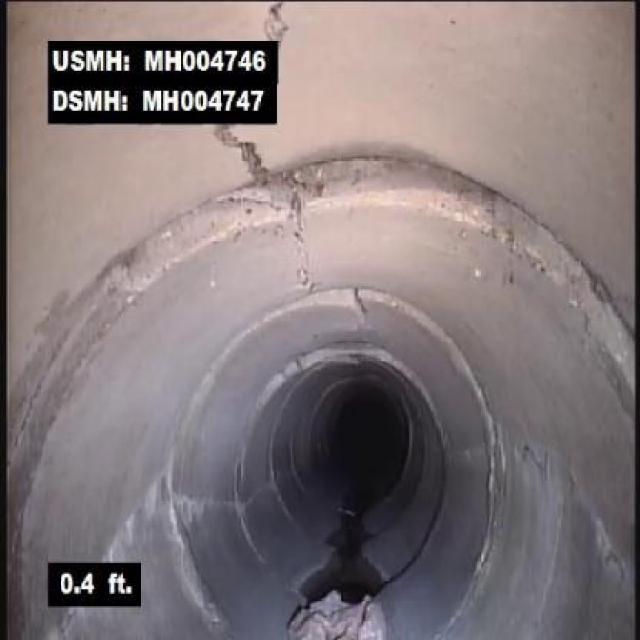Buckling: (343, 283, 377, 334)
Crack: (528, 435, 624, 580), (106, 468, 169, 560), (210, 126, 272, 185), (283, 220, 323, 295), (171, 488, 226, 518), (258, 3, 298, 42)
Debris: (283, 590, 395, 638)
Joint offset: (300, 152, 595, 218), (71, 188, 246, 298), (520, 231, 632, 389), (19, 304, 123, 454), (392, 296, 454, 350)
